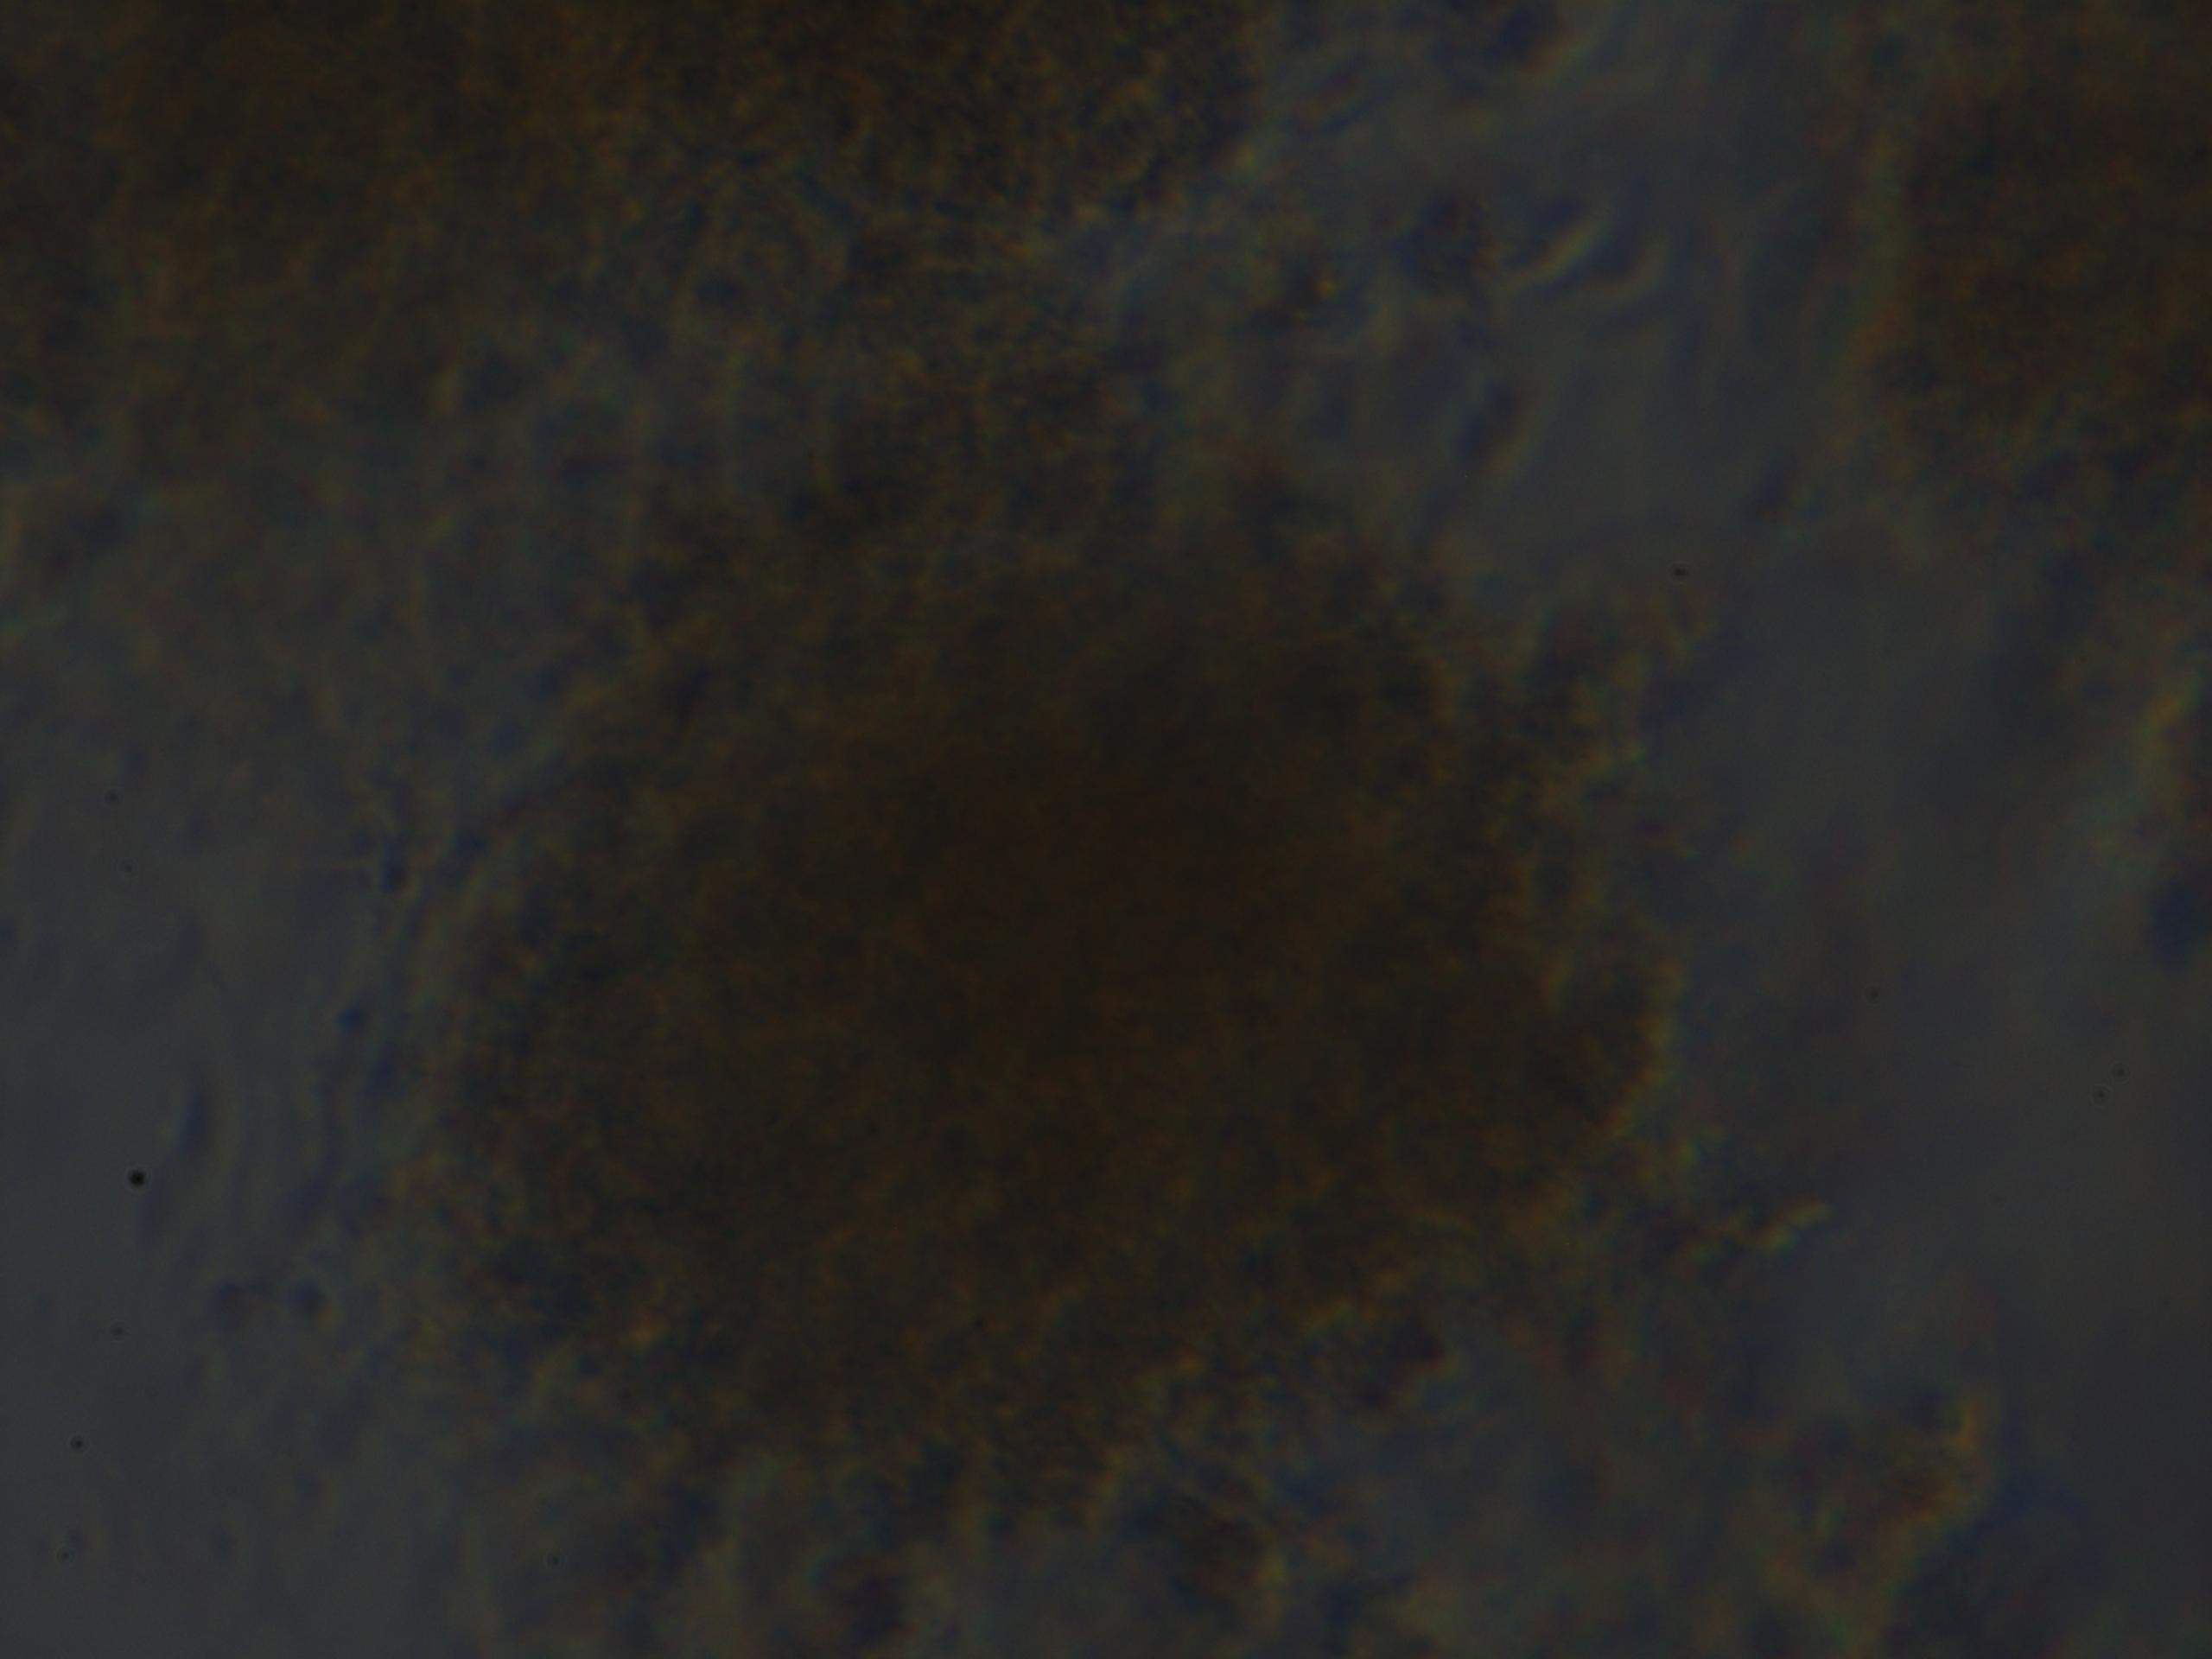spherical_floc: (399, 364, 1695, 1565)
